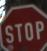Stop sign: (0, 0, 46, 50)
